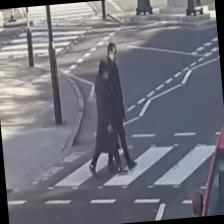person: (79, 58, 128, 179), (96, 40, 138, 172)
